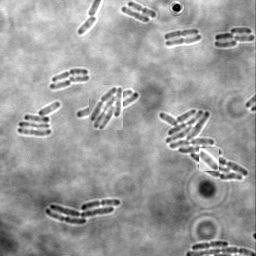Dividing: (52, 67, 89, 81), (128, 1, 157, 18), (166, 34, 202, 47), (164, 28, 200, 39), (192, 239, 229, 249)
Microcolony: (158, 109, 249, 180), (45, 199, 121, 224), (89, 85, 123, 130), (18, 101, 61, 136), (214, 27, 255, 48)
Rod: (121, 5, 150, 23), (199, 148, 219, 171), (78, 16, 99, 34), (50, 79, 72, 89), (69, 73, 90, 82)
